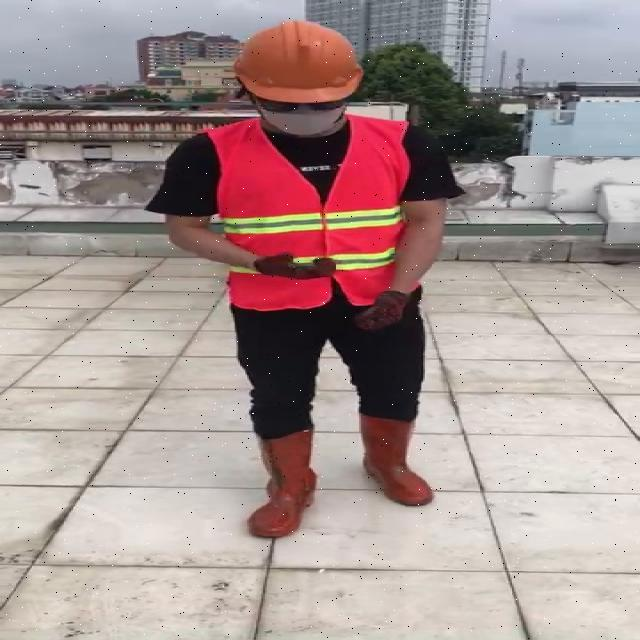Hard_hat: (226, 16, 365, 102)
Person: (146, 5, 472, 554)
Vest: (211, 113, 403, 313)
